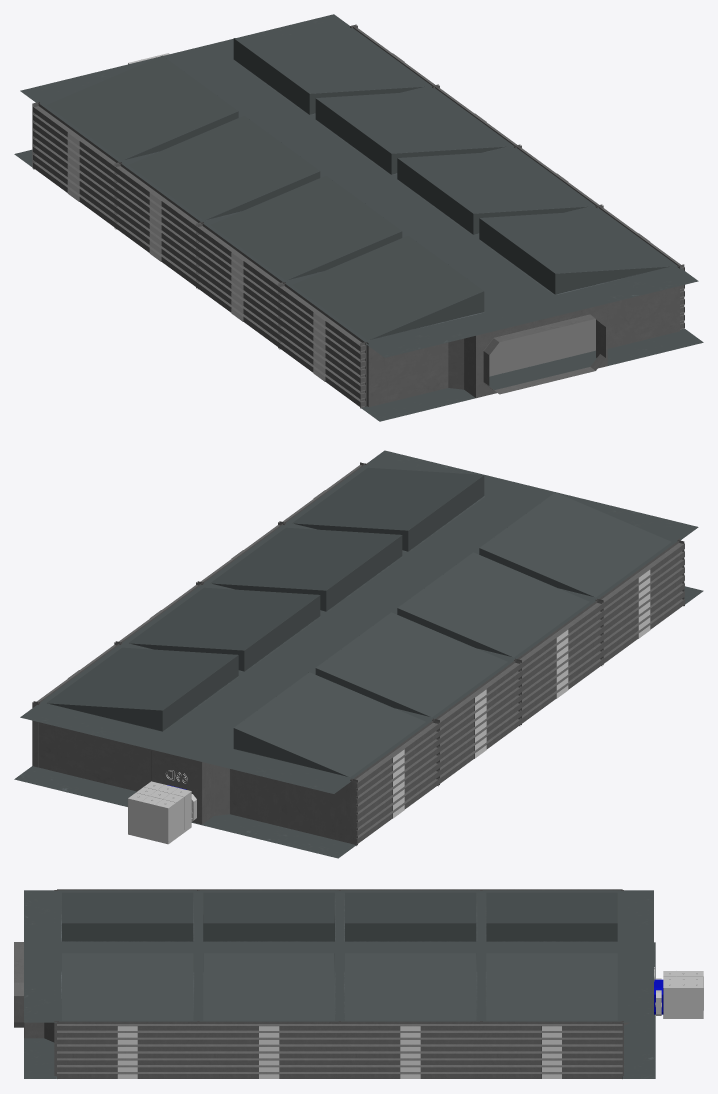
The model's file is hangar.fbx.
The picture shows the model from 3 angles, top to bottom: view 1: azimuth 30°, elevation 25°; view 2: azimuth 150°, elevation 25°; view 3: azimuth 270°, elevation 25°; orthographic projection. The views are drawn at different scales.
Visible parts, largest first — view 1: hangar roof, hangar entrance, hangar walls, hangar walls.003, hangar walls.002, hangar walls.001, Cube, hangar floor, hangar walls.004; view 2: hangar roof, hangar elevator wall, hangar walls.003, hangar walls.002, hangar walls, hangar walls.001, Cube.001, elevator walls, elevator roof; view 3: hangar roof, hangar walls.002, hangar walls.003, hangar walls, hangar walls.001, Cube.001, hangar entrance, elevator walls, Cube, elevator roof.
Part boxes in pixels (bbox=[...]): hangar roof: bbox=[20, 14, 698, 357]; hangar entrance: bbox=[368, 286, 679, 406]; hangar walls: bbox=[278, 204, 684, 407]; hangar walls.003: bbox=[32, 24, 434, 227]; hangar walls.002: bbox=[114, 84, 516, 287]; hangar walls.001: bbox=[196, 144, 598, 347]; Cube: bbox=[360, 329, 703, 421]; hangar floor: bbox=[489, 319, 595, 376]; hangar walls.004: bbox=[360, 264, 684, 408]; hangar roof: bbox=[20, 450, 698, 793]; hangar elevator wall: bbox=[39, 722, 349, 843]; hangar walls.003: bbox=[32, 643, 439, 845]; hangar walls.002: bbox=[114, 583, 520, 786]; hangar walls: bbox=[278, 463, 684, 665]; hangar walls.001: bbox=[196, 523, 602, 725]; Cube.001: bbox=[14, 766, 357, 858]; elevator walls: bbox=[128, 791, 191, 844]; elevator roof: bbox=[128, 781, 191, 808]; hangar roof: bbox=[24, 890, 653, 1022]; hangar walls.002: bbox=[339, 889, 482, 1078]; hangar walls.003: bbox=[481, 889, 623, 1078]; hangar walls: bbox=[57, 889, 199, 1078]; hangar walls.001: bbox=[198, 889, 340, 1078]; Cube.001: bbox=[622, 942, 655, 1078]; hangar entrance: bbox=[14, 942, 54, 1042]; elevator walls: bbox=[663, 977, 703, 1018]; Cube: bbox=[24, 1038, 56, 1078]; elevator roof: bbox=[663, 971, 703, 987].
Bounding box in the file's own units: 3210 × 812 × 6830.
